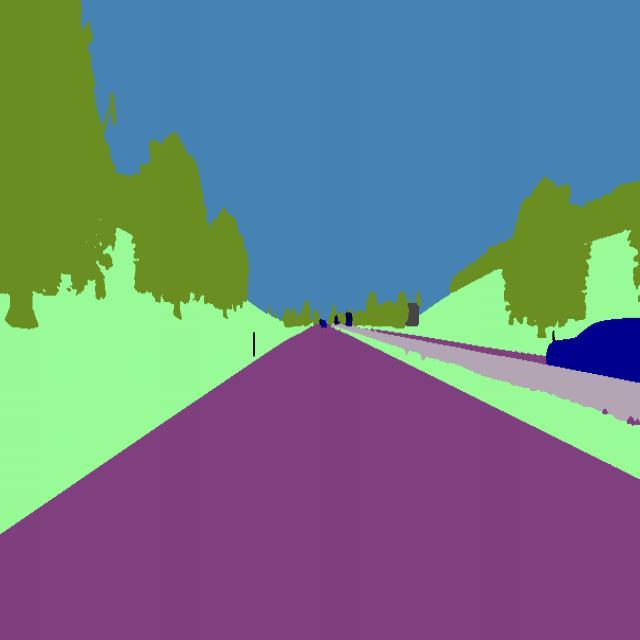safe: (541, 310, 640, 382), (343, 308, 355, 331), (316, 316, 330, 332)
